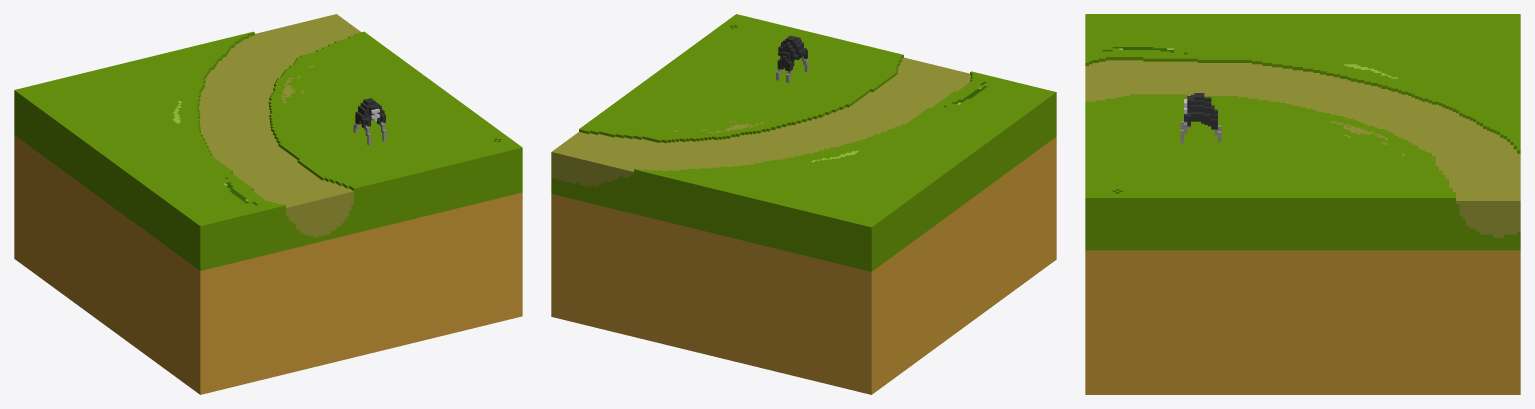
3 renders of one model, left to right at view 1: azimuth 30°, elevation 25°; view 2: azimuth 150°, elevation 25°; view 3: azimuth 270°, elevation 25°, orthographic. The views are drawn at different scales.
Parts seen in each view (by area): view 1: 7F; view 2: 7F; view 3: 7F.
Boxes of the visible parts, x1,y1,x2,y2 form: 7F: [14, 14, 522, 394]; 7F: [551, 14, 1056, 394]; 7F: [1085, 14, 1520, 394].
Size of the model in its own units: 12.8 by 7.8 by 12.8.
Materials: 1 (1 with a texture image).
